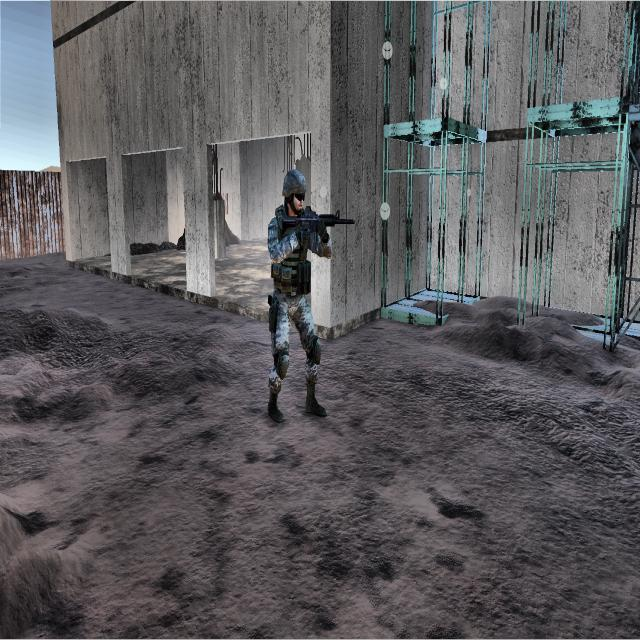bad: (259, 152, 356, 436)
